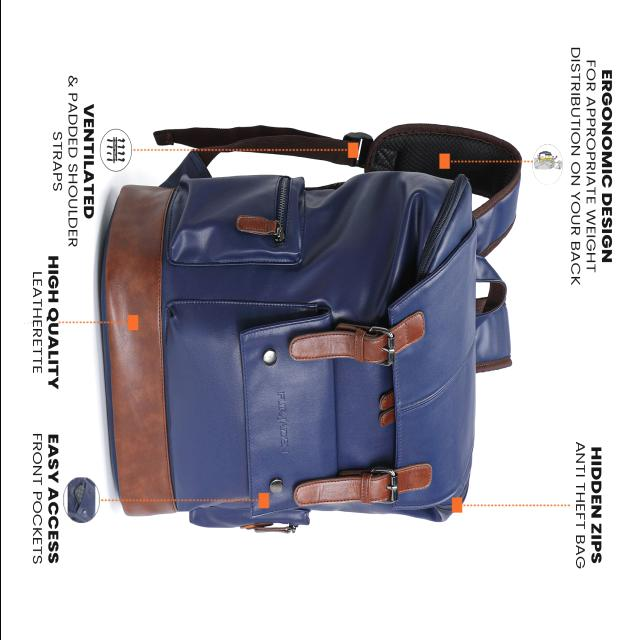backpack: (100, 124, 524, 535)
